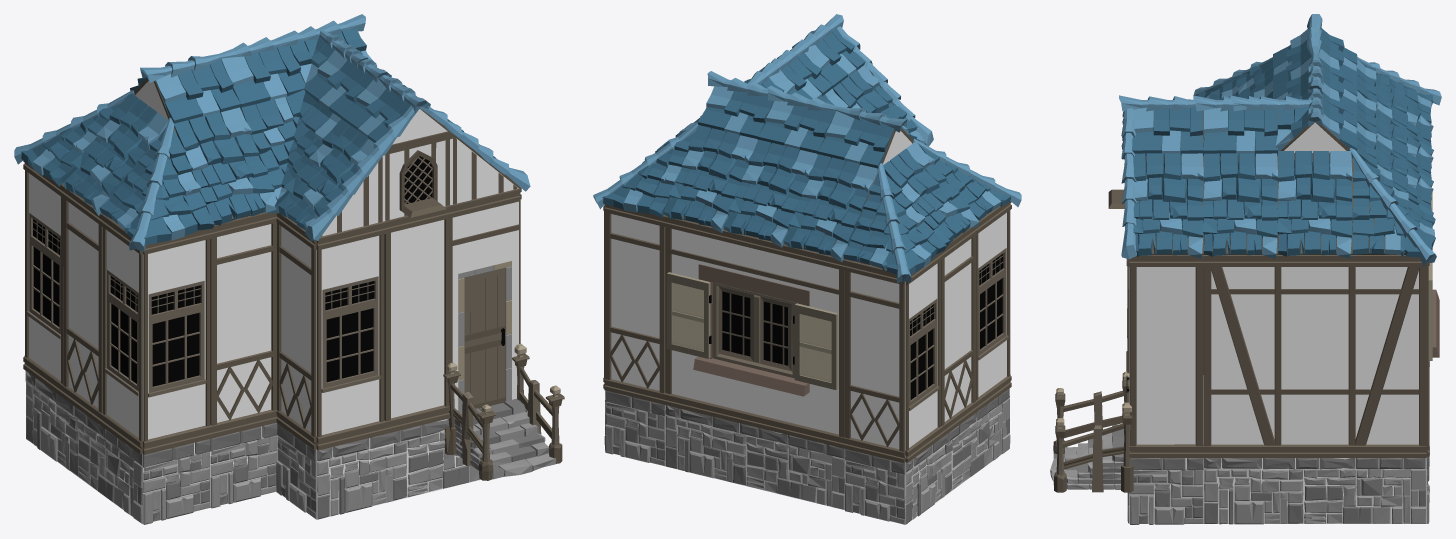
The model's file is house_06_full.fbx.
3 views of the same model, side by side, from view 1: azimuth 30°, elevation 25°; view 2: azimuth 150°, elevation 25°; view 3: azimuth 270°, elevation 25° (orthographic). The views are drawn at different scales.
Visible parts, largest first — view 1: WINDOW_04_3, WALL_03_3, WINDOW_04_4, WALL_01_3, DOOR_02_2, FOUNDATION_02_10, STAIRS_06_3, WALL_01_4, WALL_01_2, WINDOW_04_5, WINDOW_04_6, FOUNDATION_02_11 (+24 smaller); view 2: WINDOW_06_2, WALL_01_5, WALL_01_6, FOUNDATION_02_12, WINDOW_04_6, WINDOW_04_5, WALL_01_4, FOUNDATION_02_11, ROOF_corner_out_3, ROOF_base_8, ROOF_base_6, ROOF_base_7 (+16 smaller); view 3: WALL_02_2, WALL_03_4, FOUNDATION_02_13, ROOF_base_5, ROOF_base_4, ROOF_base_3, STAIRS_06_3, ROOF_corner_out_2, FOUNDATION_03_11, ROOF_base_small_5, ROOF_base_small_4, ROOF_base_6 (+21 smaller).
Part boxes in pixels (bbox=[...]): WINDOW_04_3: bbox=[316, 221, 385, 450]; WALL_03_3: bbox=[384, 205, 452, 433]; WINDOW_04_4: bbox=[143, 229, 211, 454]; WALL_01_3: bbox=[210, 212, 277, 438]; DOOR_02_2: bbox=[452, 188, 520, 412]; FOUNDATION_02_10: bbox=[316, 418, 480, 519]; STAIRS_06_3: bbox=[443, 344, 564, 480]; WALL_01_4: bbox=[62, 185, 102, 425]; WALL_01_2: bbox=[276, 212, 316, 449]; WINDOW_04_5: bbox=[101, 214, 142, 454]; WINDOW_04_6: bbox=[23, 161, 63, 396]; FOUNDATION_02_11: bbox=[26, 371, 143, 523]; WINDOW_06_2: bbox=[664, 215, 844, 448]; WALL_01_5: bbox=[844, 259, 905, 462]; WALL_01_6: bbox=[604, 204, 665, 404]; FOUNDATION_02_12: bbox=[665, 405, 845, 509]; WINDOW_04_6: bbox=[905, 251, 942, 462]; WINDOW_04_5: bbox=[975, 201, 1011, 411]; WALL_01_4: bbox=[941, 227, 976, 436]; FOUNDATION_02_11: bbox=[903, 389, 1010, 524]; ROOF_corner_out_3: bbox=[843, 163, 946, 283]; ROOF_base_8: bbox=[783, 154, 877, 262]; ROOF_base_6: bbox=[663, 125, 757, 232]; ROOF_base_7: bbox=[723, 139, 817, 247]; WALL_02_2: bbox=[1203, 255, 1426, 457]; WALL_03_4: bbox=[1129, 255, 1203, 457]; FOUNDATION_02_13: bbox=[1203, 458, 1426, 524]; ROOF_base_5: bbox=[1277, 151, 1352, 258]; ROOF_base_4: bbox=[1203, 153, 1278, 258]; ROOF_base_3: bbox=[1129, 153, 1203, 258]; STAIRS_06_3: bbox=[1050, 371, 1133, 492]; ROOF_corner_out_2: bbox=[1348, 148, 1436, 266]; FOUNDATION_03_11: bbox=[1129, 458, 1203, 524]; ROOF_base_small_5: bbox=[1203, 107, 1277, 156]; ROOF_base_small_4: bbox=[1132, 106, 1203, 156]; ROOF_base_6: bbox=[1356, 122, 1433, 215].
Size of the model in its own units: 541 by 565 by 527.
